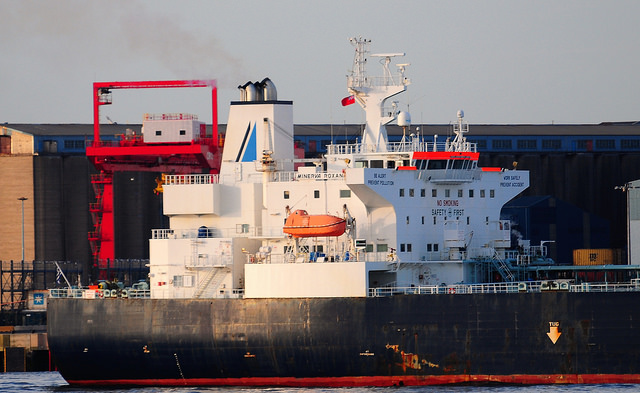tanker: (46, 48, 637, 380)
